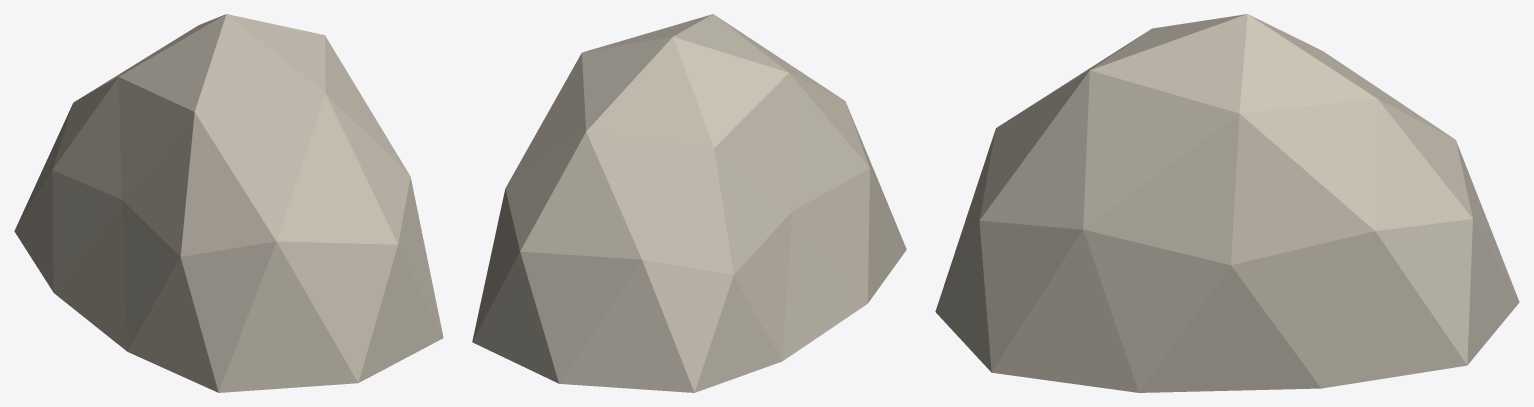
The model's file is stein.fbx.
3 views of the same model, side by side, from view 1: azimuth 30°, elevation 25°; view 2: azimuth 150°, elevation 25°; view 3: azimuth 270°, elevation 25° (orthographic). The views are drawn at different scales.
Visible parts, largest first — view 1: stein; view 2: stein; view 3: stein.
Boxes of the visible parts, x1,y1,x2,y2 form: stein: (14,14,443,392); stein: (472,14,906,392); stein: (935,14,1519,392).
Size of the model in its own units: 348 by 223 by 199.
